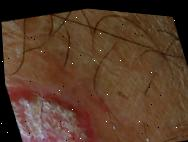plaque psoriasis: (4, 68, 110, 142)
